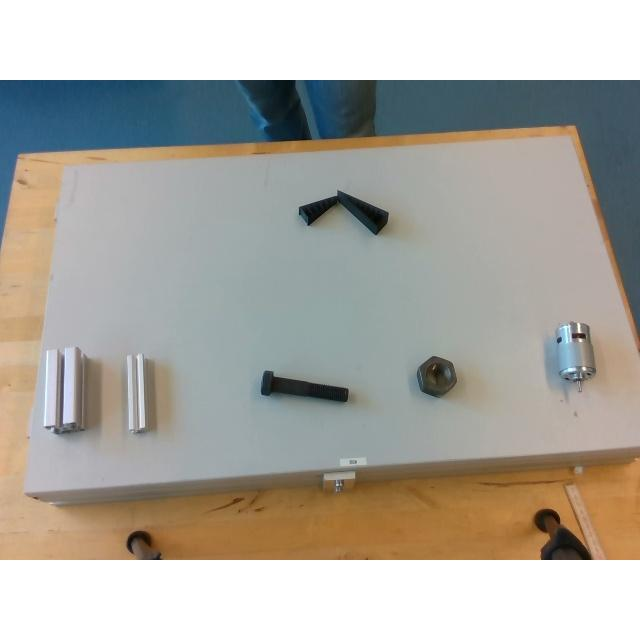F20_20_G: (124, 351, 150, 433)
M20_100: (260, 371, 348, 402)
M30: (416, 356, 456, 396)
Motor2: (556, 321, 596, 381)
S40_40_G: (42, 348, 82, 432)
